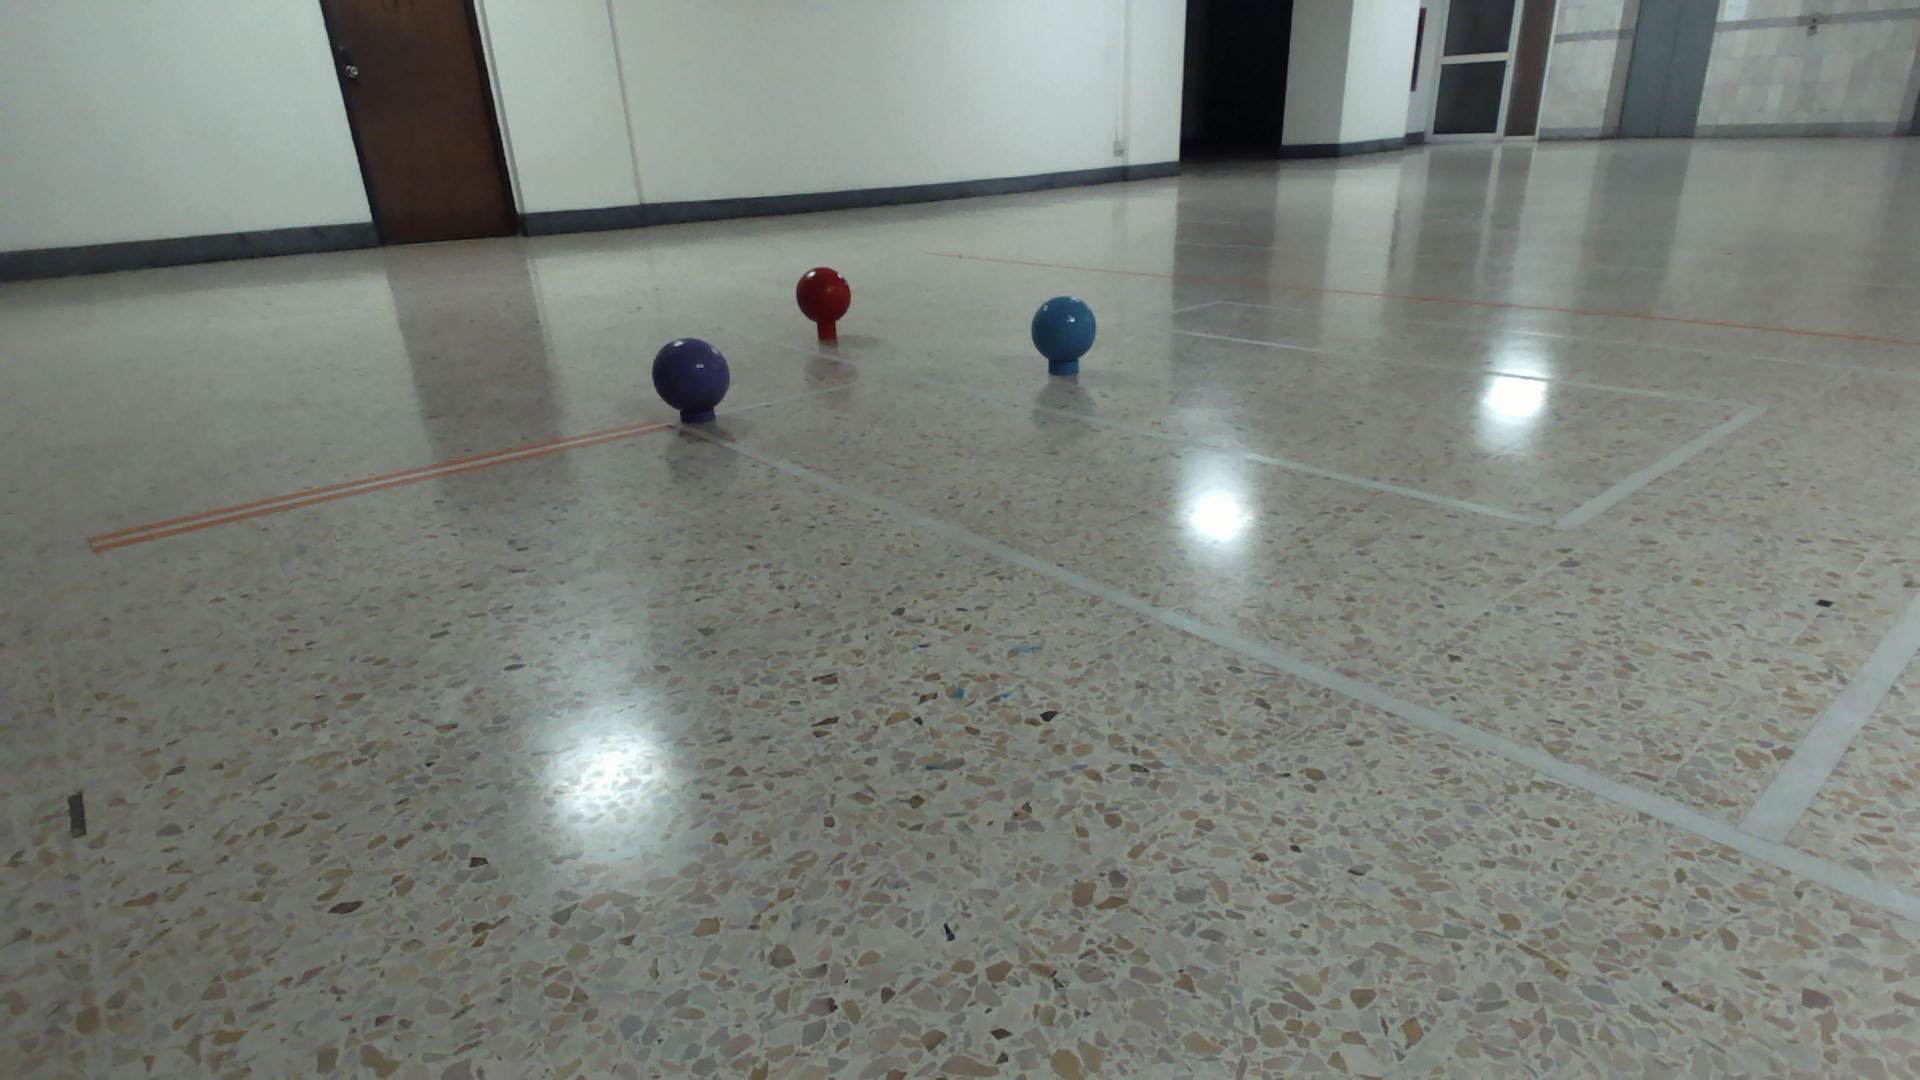Blue ball: (1029, 294, 1097, 363)
Purple ball: (649, 335, 733, 413)
Red ball: (793, 266, 851, 324)
